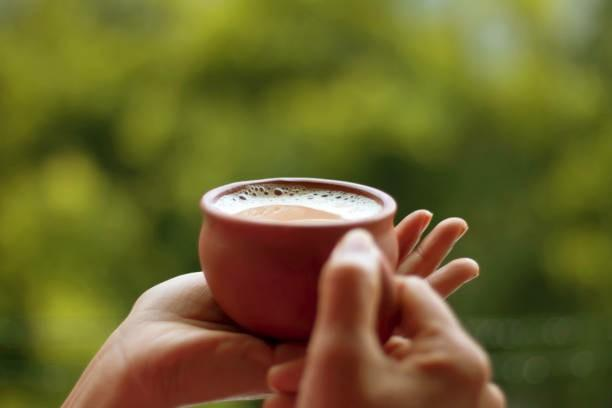Chai: (207, 191, 392, 221)
